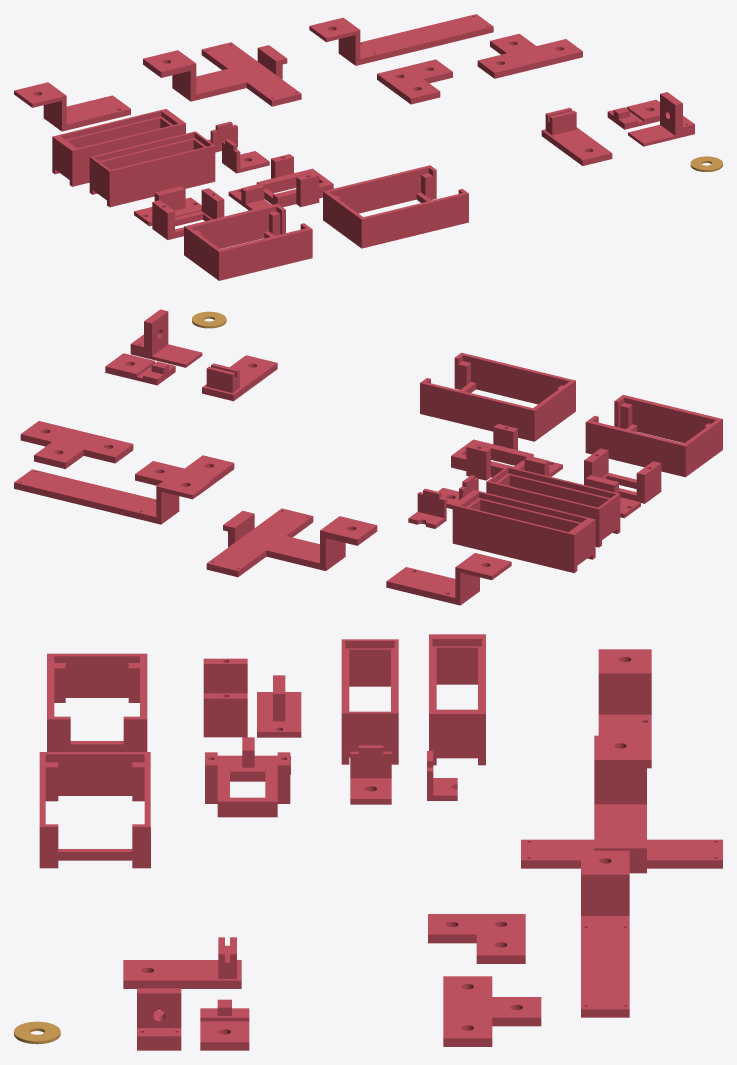
Rendered from Covid19.glb.
3 renders of one model, top to bottom at view 1: azimuth 30°, elevation 25°; view 2: azimuth 150°, elevation 25°; view 3: azimuth 270°, elevation 25°, orthographic. The views are drawn at different scales.
Parts seen in each view (by area): view 1: Mesh_Mesh_head_geo.001_lambert2SG.001; view 2: Mesh_Mesh_head_geo.001_lambert2SG.001; view 3: Mesh_Mesh_head_geo.001_lambert2SG.001.
Boxes of the visible parts, left/top/right/bottom form: Mesh_Mesh_head_geo.001_lambert2SG.001: left=14, top=14, right=722, bottom=280; Mesh_Mesh_head_geo.001_lambert2SG.001: left=14, top=309, right=722, bottom=605; Mesh_Mesh_head_geo.001_lambert2SG.001: left=14, top=634, right=722, bottom=1050.
Bounding box in the file's own units: 353 × 23.8 × 290.
